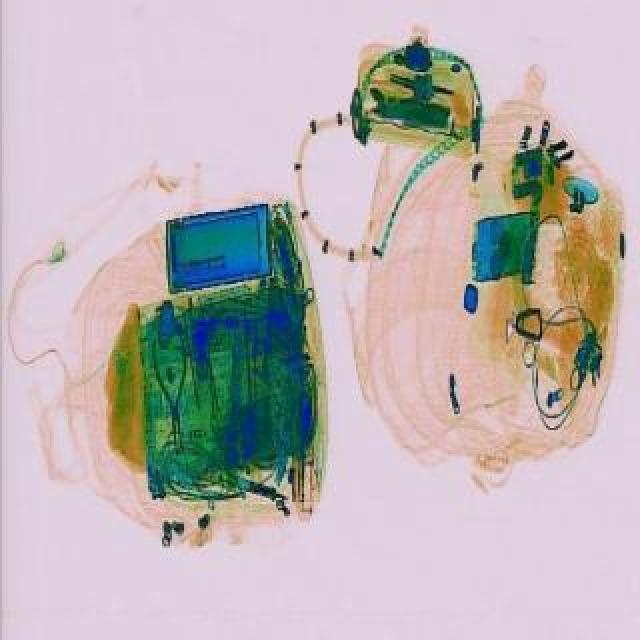wrench: (150, 332, 196, 462)
